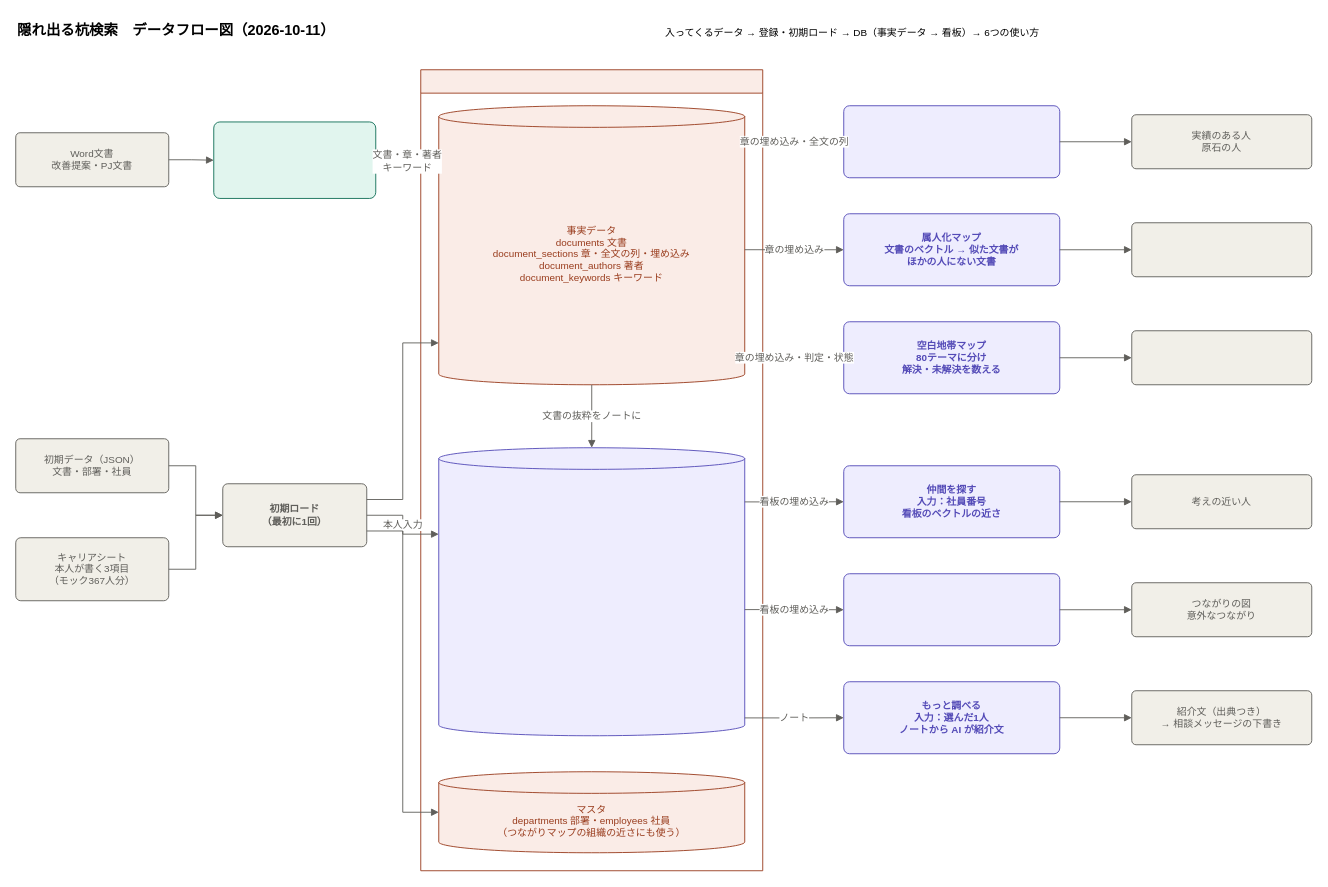
Image size: 1328x887. Some labels were removed from this diagram. The shapes that lost their labels are listed below. From the top down, each one's box as (x1, y1, x2, y2) in pixels, then its label:
(213, 121, 376, 198): 登録タブ チェック → 登録 章の埋め込み 関係者の看板も作り直す
(843, 105, 1060, 178): 人を探す 入力：相談したいこと ベクトル＋全文 → RRF → 章→文書→人
(1131, 222, 1312, 277): 替えがききにくい人 引き継ぎの候補
(1131, 330, 1312, 385): 手つかずのテーマ その課題を出した人
(420, 69, 763, 871): Supabase
(438, 447, 745, 736): 看板（AI生成物） profile_notes ノート（文書の抜粋・キャリアシート） profiles 看板の文章・埋め込み
(843, 573, 1060, 646): つながりマップ 入力：選んだ1人 看板・テーマ・文章・組織の近さ
